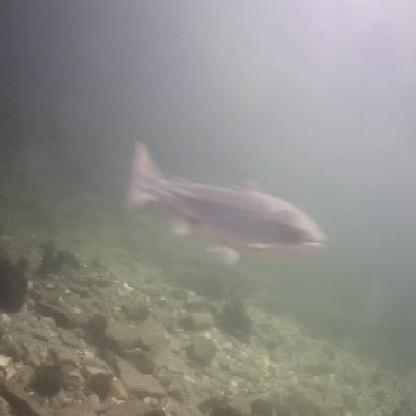salmon: (116, 135, 331, 265)
